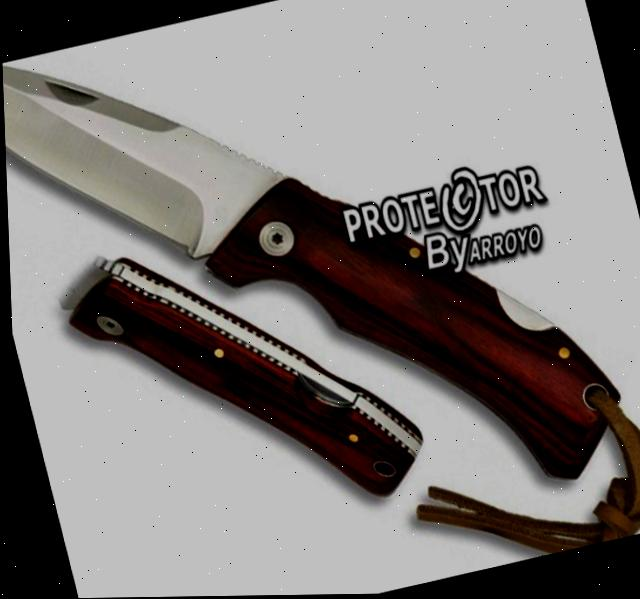pocket-knife: (0, 0, 640, 591)
